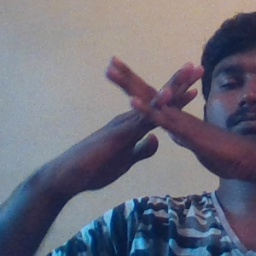W: (91, 46, 219, 186)
